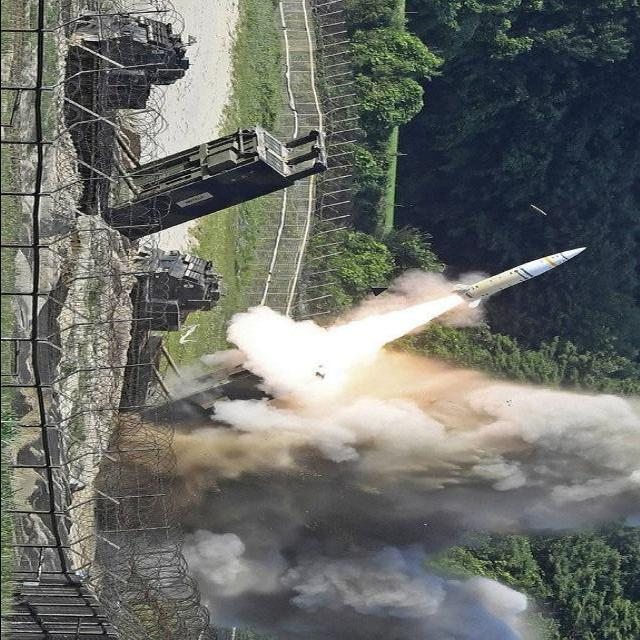missile: (452, 240, 594, 317)
